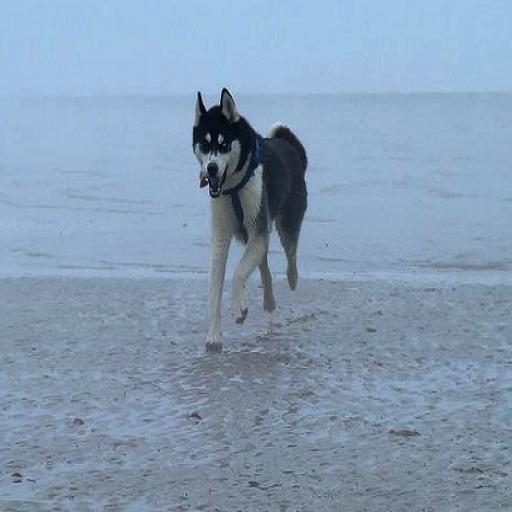dog_face: (192, 85, 245, 193)
